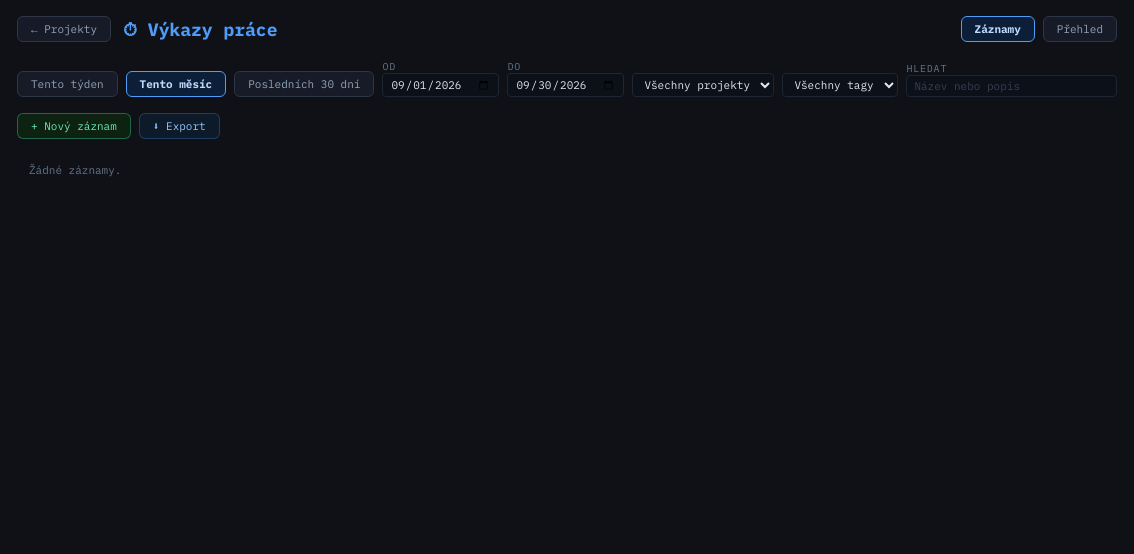
Test case: formulář záznamu › našeptá tag z historie podle rozepsané předpony
Click the button "+ Nový záznam". click: (74, 126)
box: [17,113,131,139]
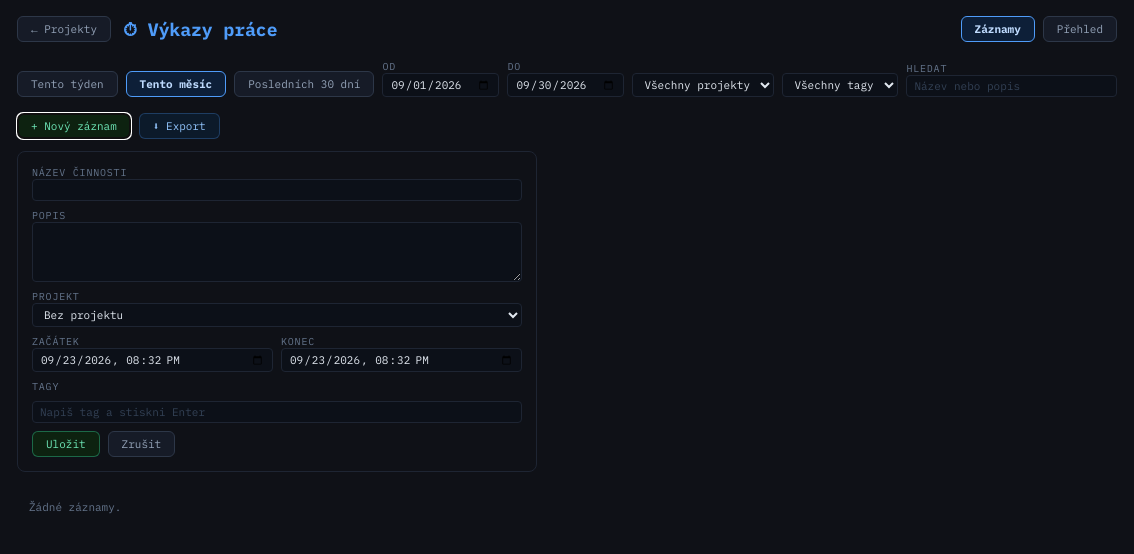
Type "poho" into the field labelled "Tagy". click: (277, 412)
box: [32,401,522,423]
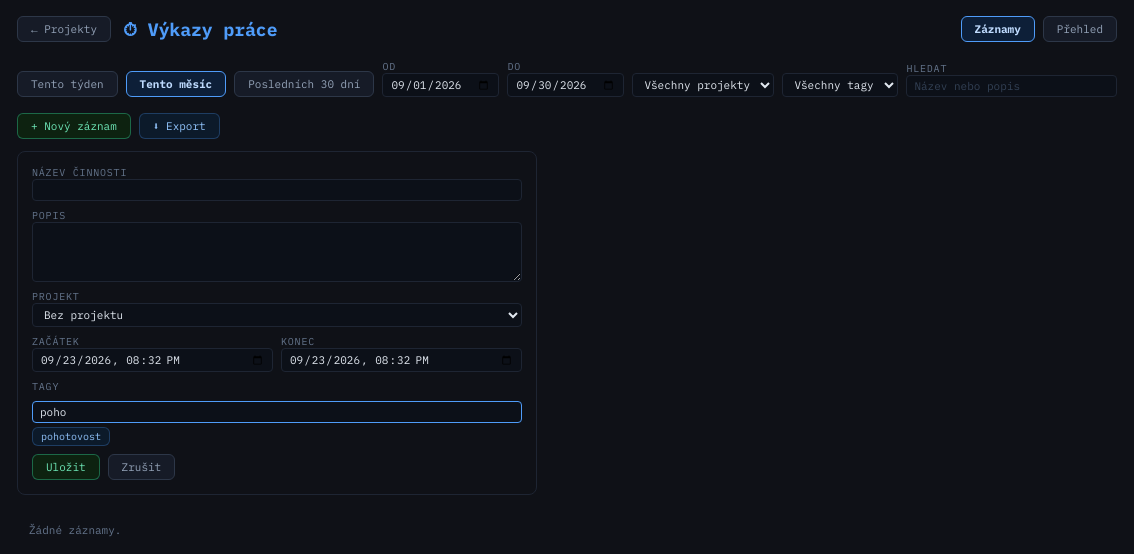
Click the button "pohotovost". click: (71, 436)
box: [32,427,110,446]
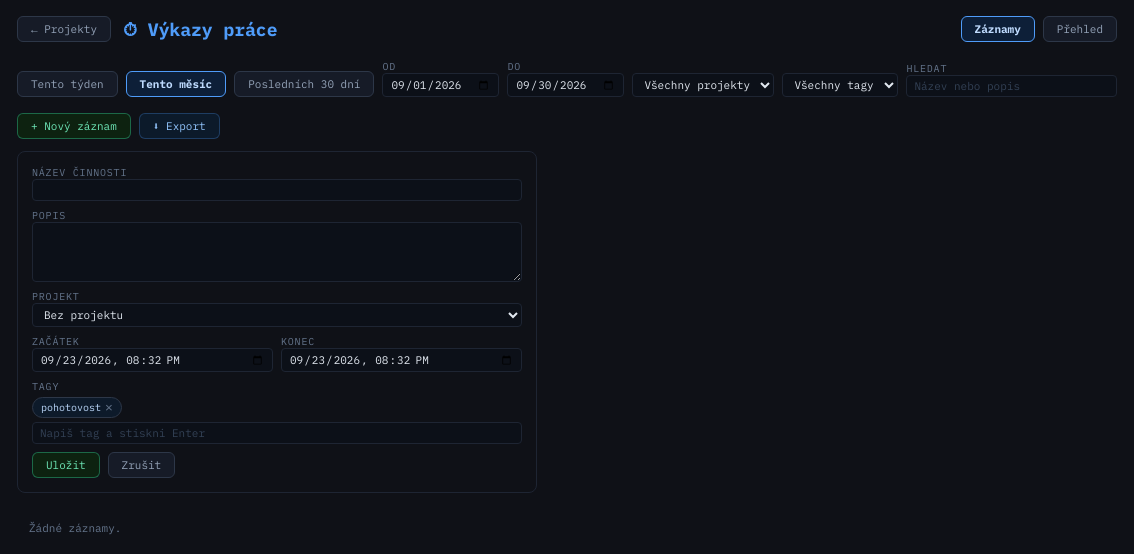
Now the button named "Odebrat tag pohotovost" is shown, box [105,400,113,415]
